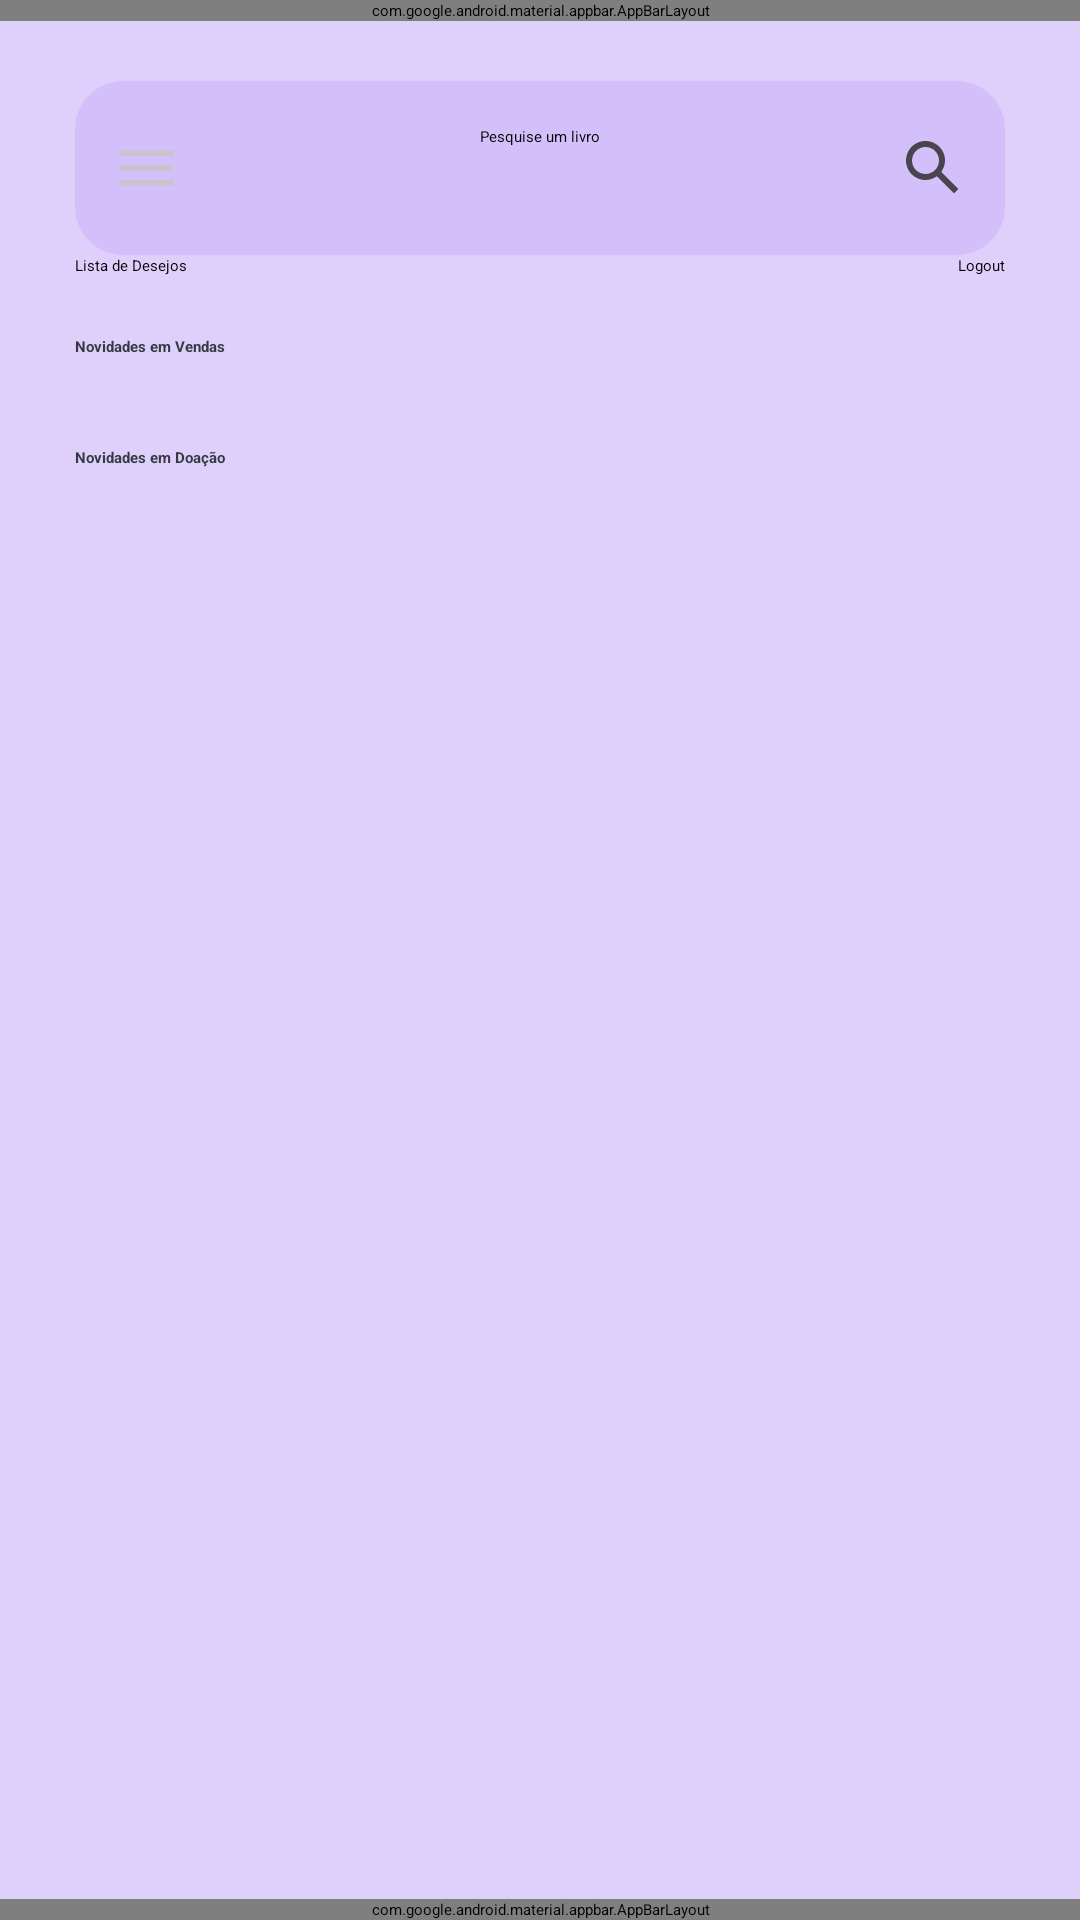

Icons on this 1080w x 1920h Android screen, each with its box as rect(x1, y1, x2, y2):
search: rect(906, 141, 958, 193)
